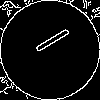I: (25, 25, 72, 61)
